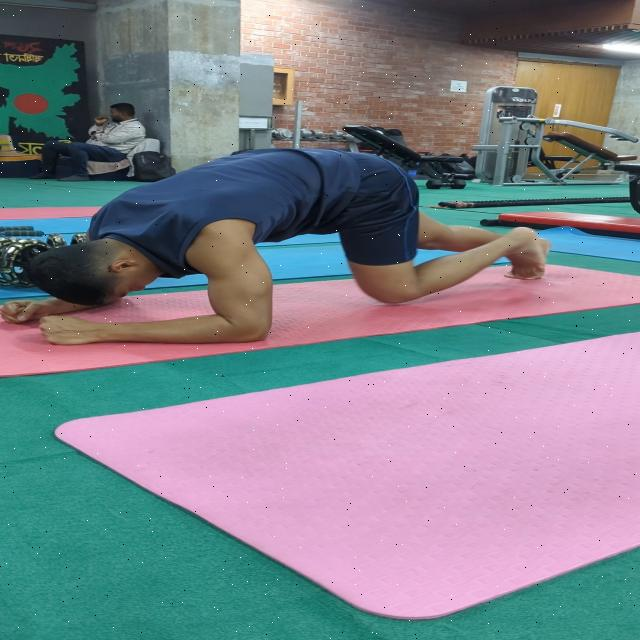Normal_MountainClimbers: (0, 130, 567, 363)
